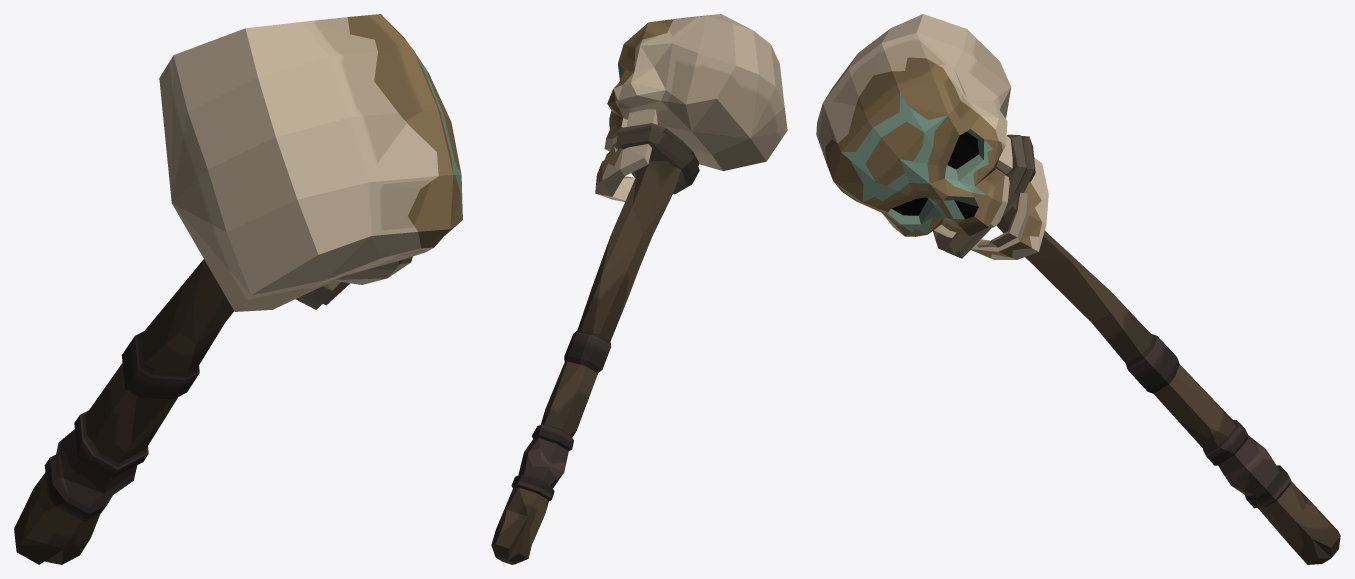
The model's file is df-club-01.glb.
3 renders of one model, left to right at view 1: azimuth 30°, elevation 25°; view 2: azimuth 150°, elevation 25°; view 3: azimuth 270°, elevation 25°, orthographic. The views are drawn at different scales.
Parts seen in each view (by area): view 1: df-club-01; view 2: df-club-01; view 3: df-club-01.
Part boxes in pixels (bbox=[...]): df-club-01: bbox=[14, 14, 462, 564]; df-club-01: bbox=[491, 14, 787, 564]; df-club-01: bbox=[816, 14, 1340, 564].
Size of the model in its own units: 0.2507 by 0.733 by 0.6761.
Materials: 1 (1 with a texture image).
